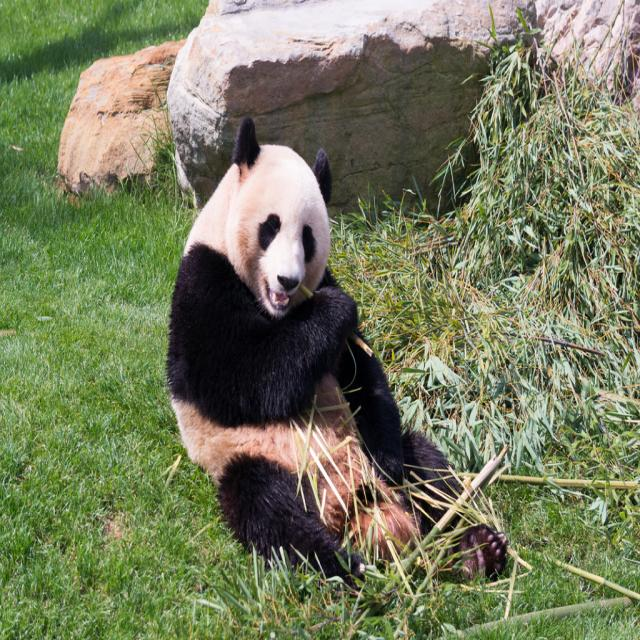panda: (167, 117, 509, 601)
